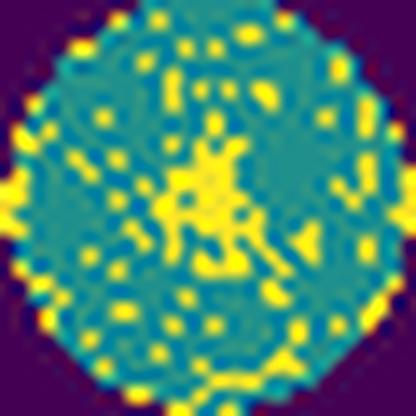Center: (154, 134, 270, 280)
